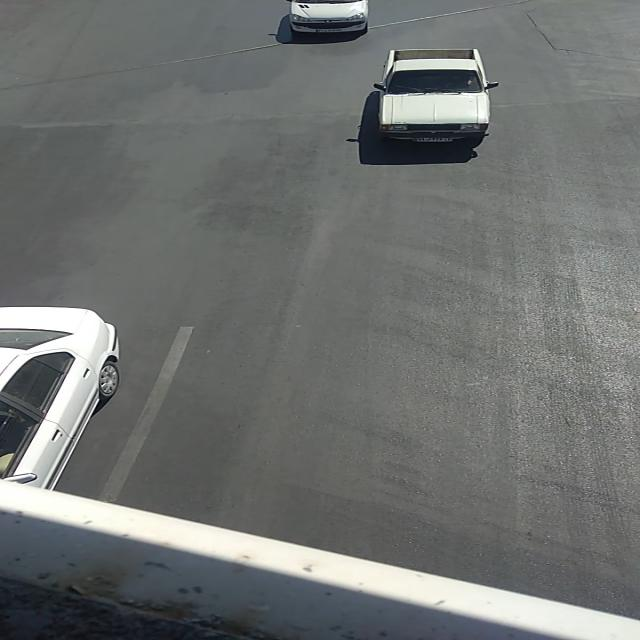car: (1, 302, 127, 485), (374, 48, 498, 144), (286, 1, 371, 36)
